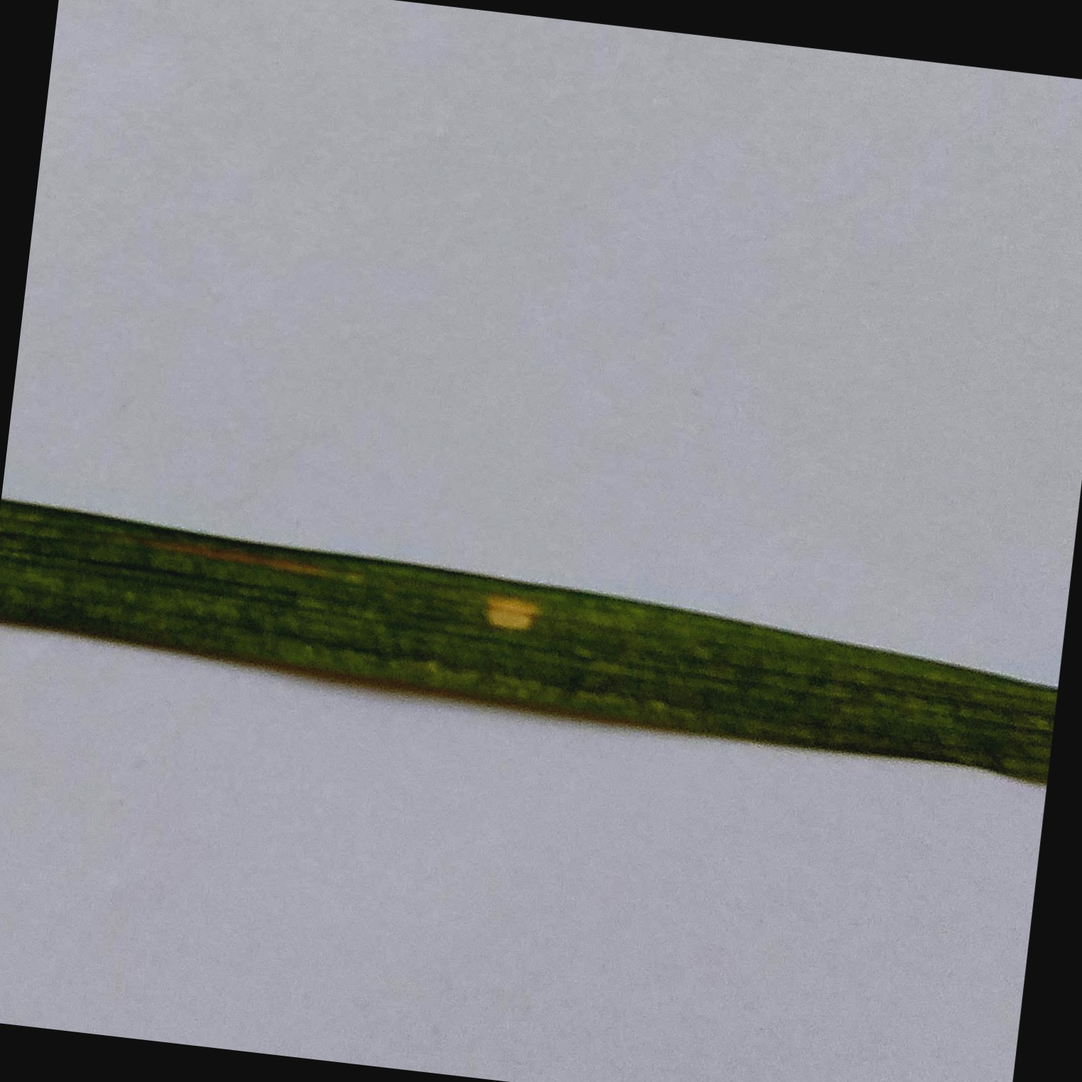Brown_Spot: (470, 571, 561, 636)
